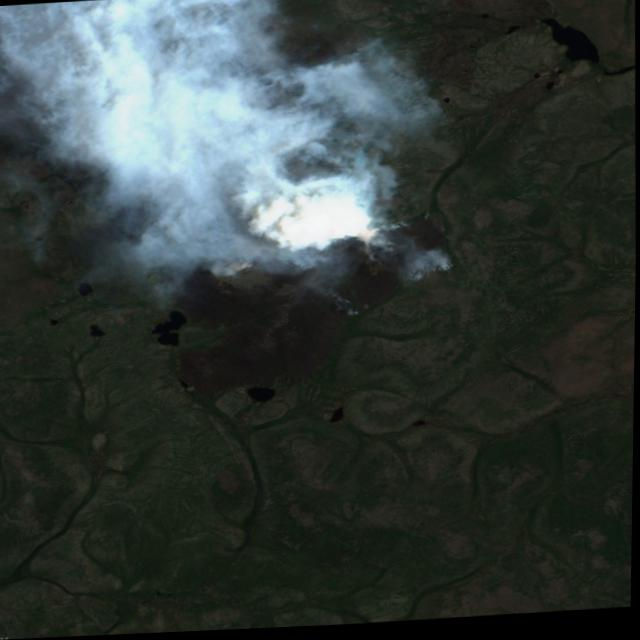fire: (248, 203, 456, 296)
